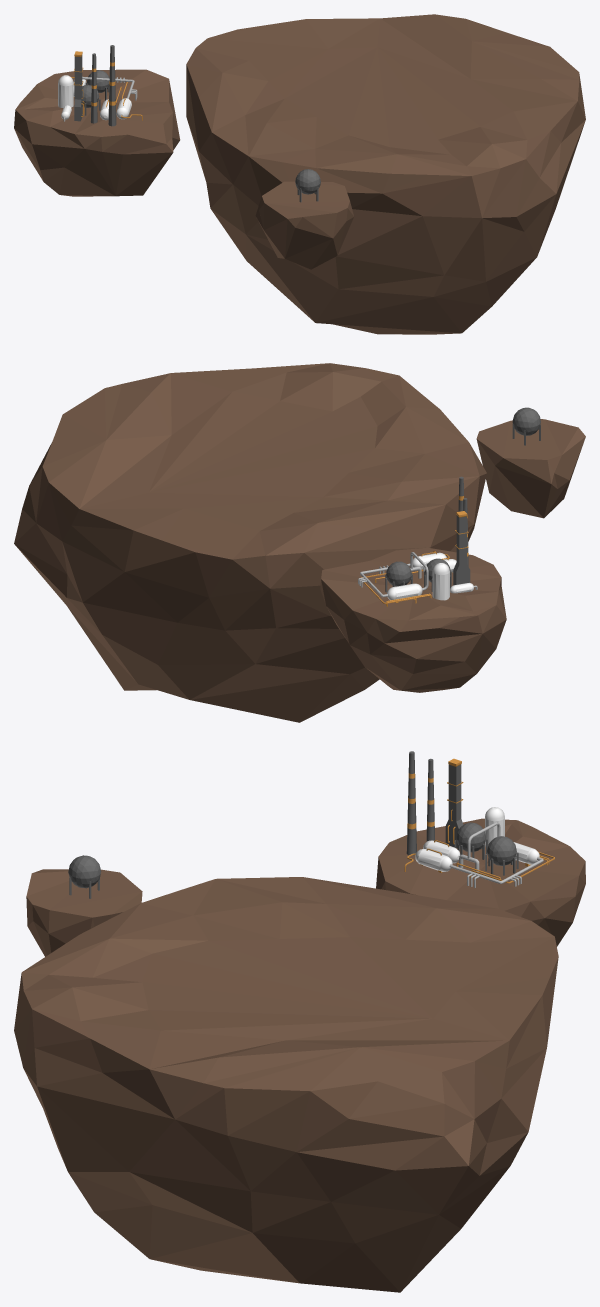
The model's file is asteroid.glb.
The picture shows the model from 3 angles, top to bottom: view 1: azimuth 30°, elevation 25°; view 2: azimuth 150°, elevation 25°; view 3: azimuth 270°, elevation 25°; orthographic projection. The views are drawn at different scales.
Parts seen in each view (by area): view 1: 3DSMeshMatrix.004, 3DSMeshMatrix.070, 3DSMeshMatrix.005, 3DSMeshMatrix.053, 3DSMeshMatrix.006, 3DSMeshMatrix.046, 3DSMeshMatrix.057; view 2: 3DSMeshMatrix.004, 3DSMeshMatrix.070, 3DSMeshMatrix.005, 3DSMeshMatrix.053, 3DSMeshMatrix.006, 3DSMeshMatrix.057, 3DSMeshMatrix.038; view 3: 3DSMeshMatrix.004, 3DSMeshMatrix.070, 3DSMeshMatrix.005, 3DSMeshMatrix.053, 3DSMeshMatrix.006, 3DSMeshMatrix.046, 3DSMeshMatrix.038.
Part boxes in pixels (box(x1,y1,x2,y2)): 3DSMeshMatrix.004: box(186, 14, 585, 334); 3DSMeshMatrix.070: box(14, 69, 180, 196); 3DSMeshMatrix.005: box(255, 181, 353, 269); 3DSMeshMatrix.053: box(74, 55, 82, 121); 3DSMeshMatrix.006: box(295, 169, 320, 194); 3DSMeshMatrix.046: box(108, 45, 116, 126); 3DSMeshMatrix.057: box(58, 75, 73, 107); 3DSMeshMatrix.004: box(14, 363, 486, 722); 3DSMeshMatrix.070: box(320, 547, 506, 692); 3DSMeshMatrix.005: box(476, 419, 585, 518); 3DSMeshMatrix.053: box(453, 515, 470, 585); 3DSMeshMatrix.006: box(512, 407, 540, 435); 3DSMeshMatrix.057: box(432, 563, 449, 600); 3DSMeshMatrix.038: box(386, 561, 411, 586); 3DSMeshMatrix.004: box(14, 877, 558, 1292); 3DSMeshMatrix.070: box(376, 818, 585, 946); 3DSMeshMatrix.005: box(26, 869, 142, 956); 3DSMeshMatrix.053: box(445, 764, 463, 848); 3DSMeshMatrix.006: box(68, 855, 101, 888); 3DSMeshMatrix.046: box(406, 751, 416, 855); 3DSMeshMatrix.038: box(487, 836, 516, 865).
Bounding box in the file's own units: 6.23 × 3.72 × 5.23.
